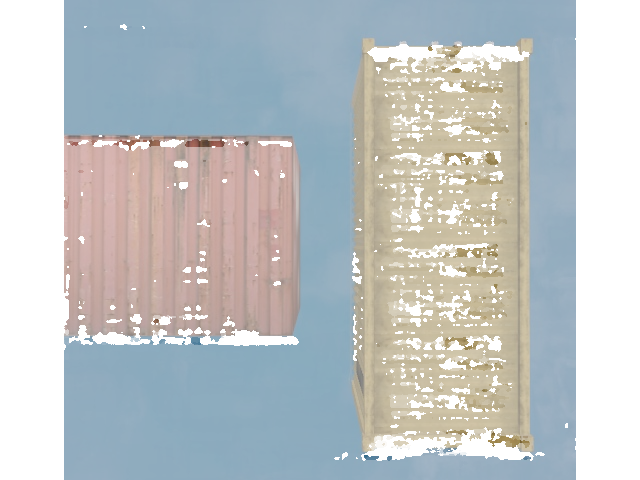container3: (341, 27, 545, 454)
container4: (0, 125, 310, 344)
